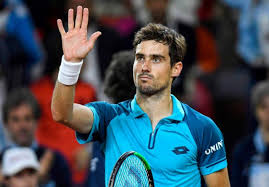without_mask: (130, 41, 171, 95)
